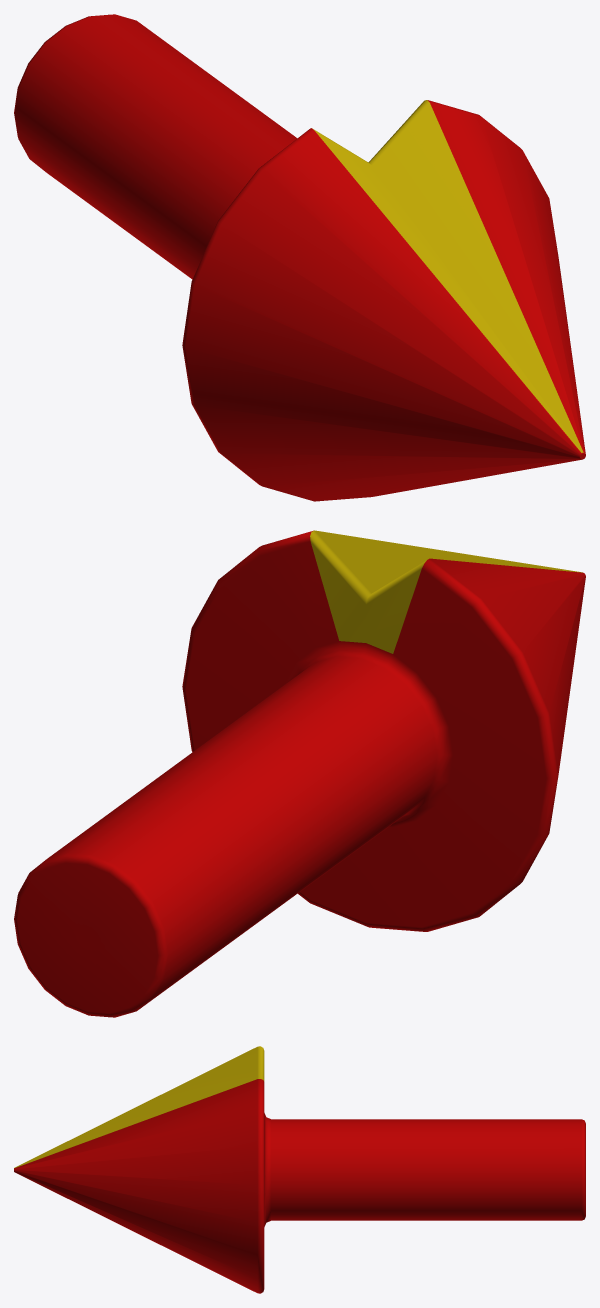
File: direction_null.fbx
The picture shows the model from 3 angles, top to bottom: view 1: azimuth 30°, elevation 25°; view 2: azimuth 150°, elevation 25°; view 3: azimuth 270°, elevation 25°; orthographic projection. The views are drawn at different scales.
Visible parts, largest first — view 1: direction_null; view 2: direction_null; view 3: direction_null.
Boxes of the visible parts, x1,y1,x2,y2 form: direction_null: (14, 14, 585, 501); direction_null: (14, 530, 585, 1017); direction_null: (14, 1046, 585, 1293).
Size of the model in its own units: 336 by 770 by 328.
